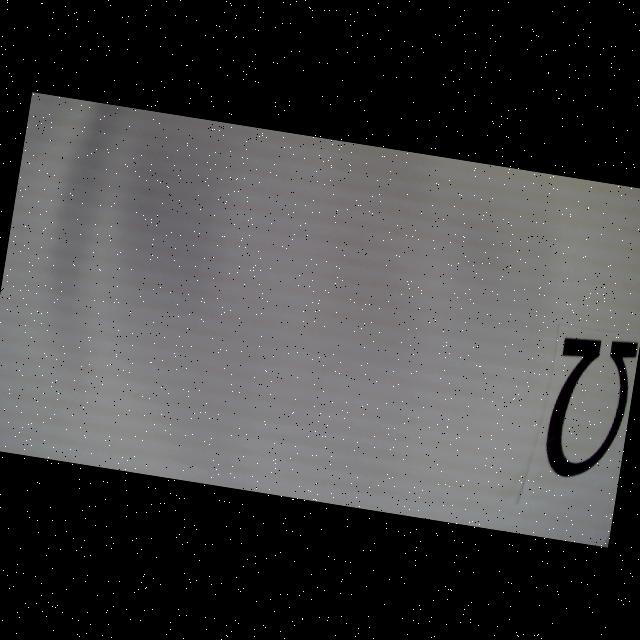OMEGA: (541, 331, 640, 486)
